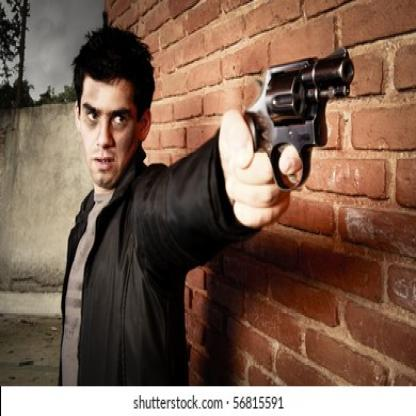handgun: (235, 47, 357, 198)
